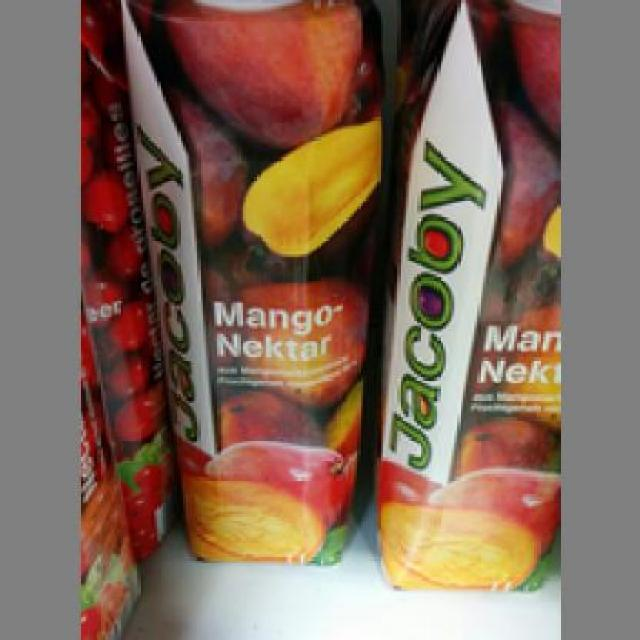Juice: (113, 0, 370, 569), (368, 0, 554, 589)
